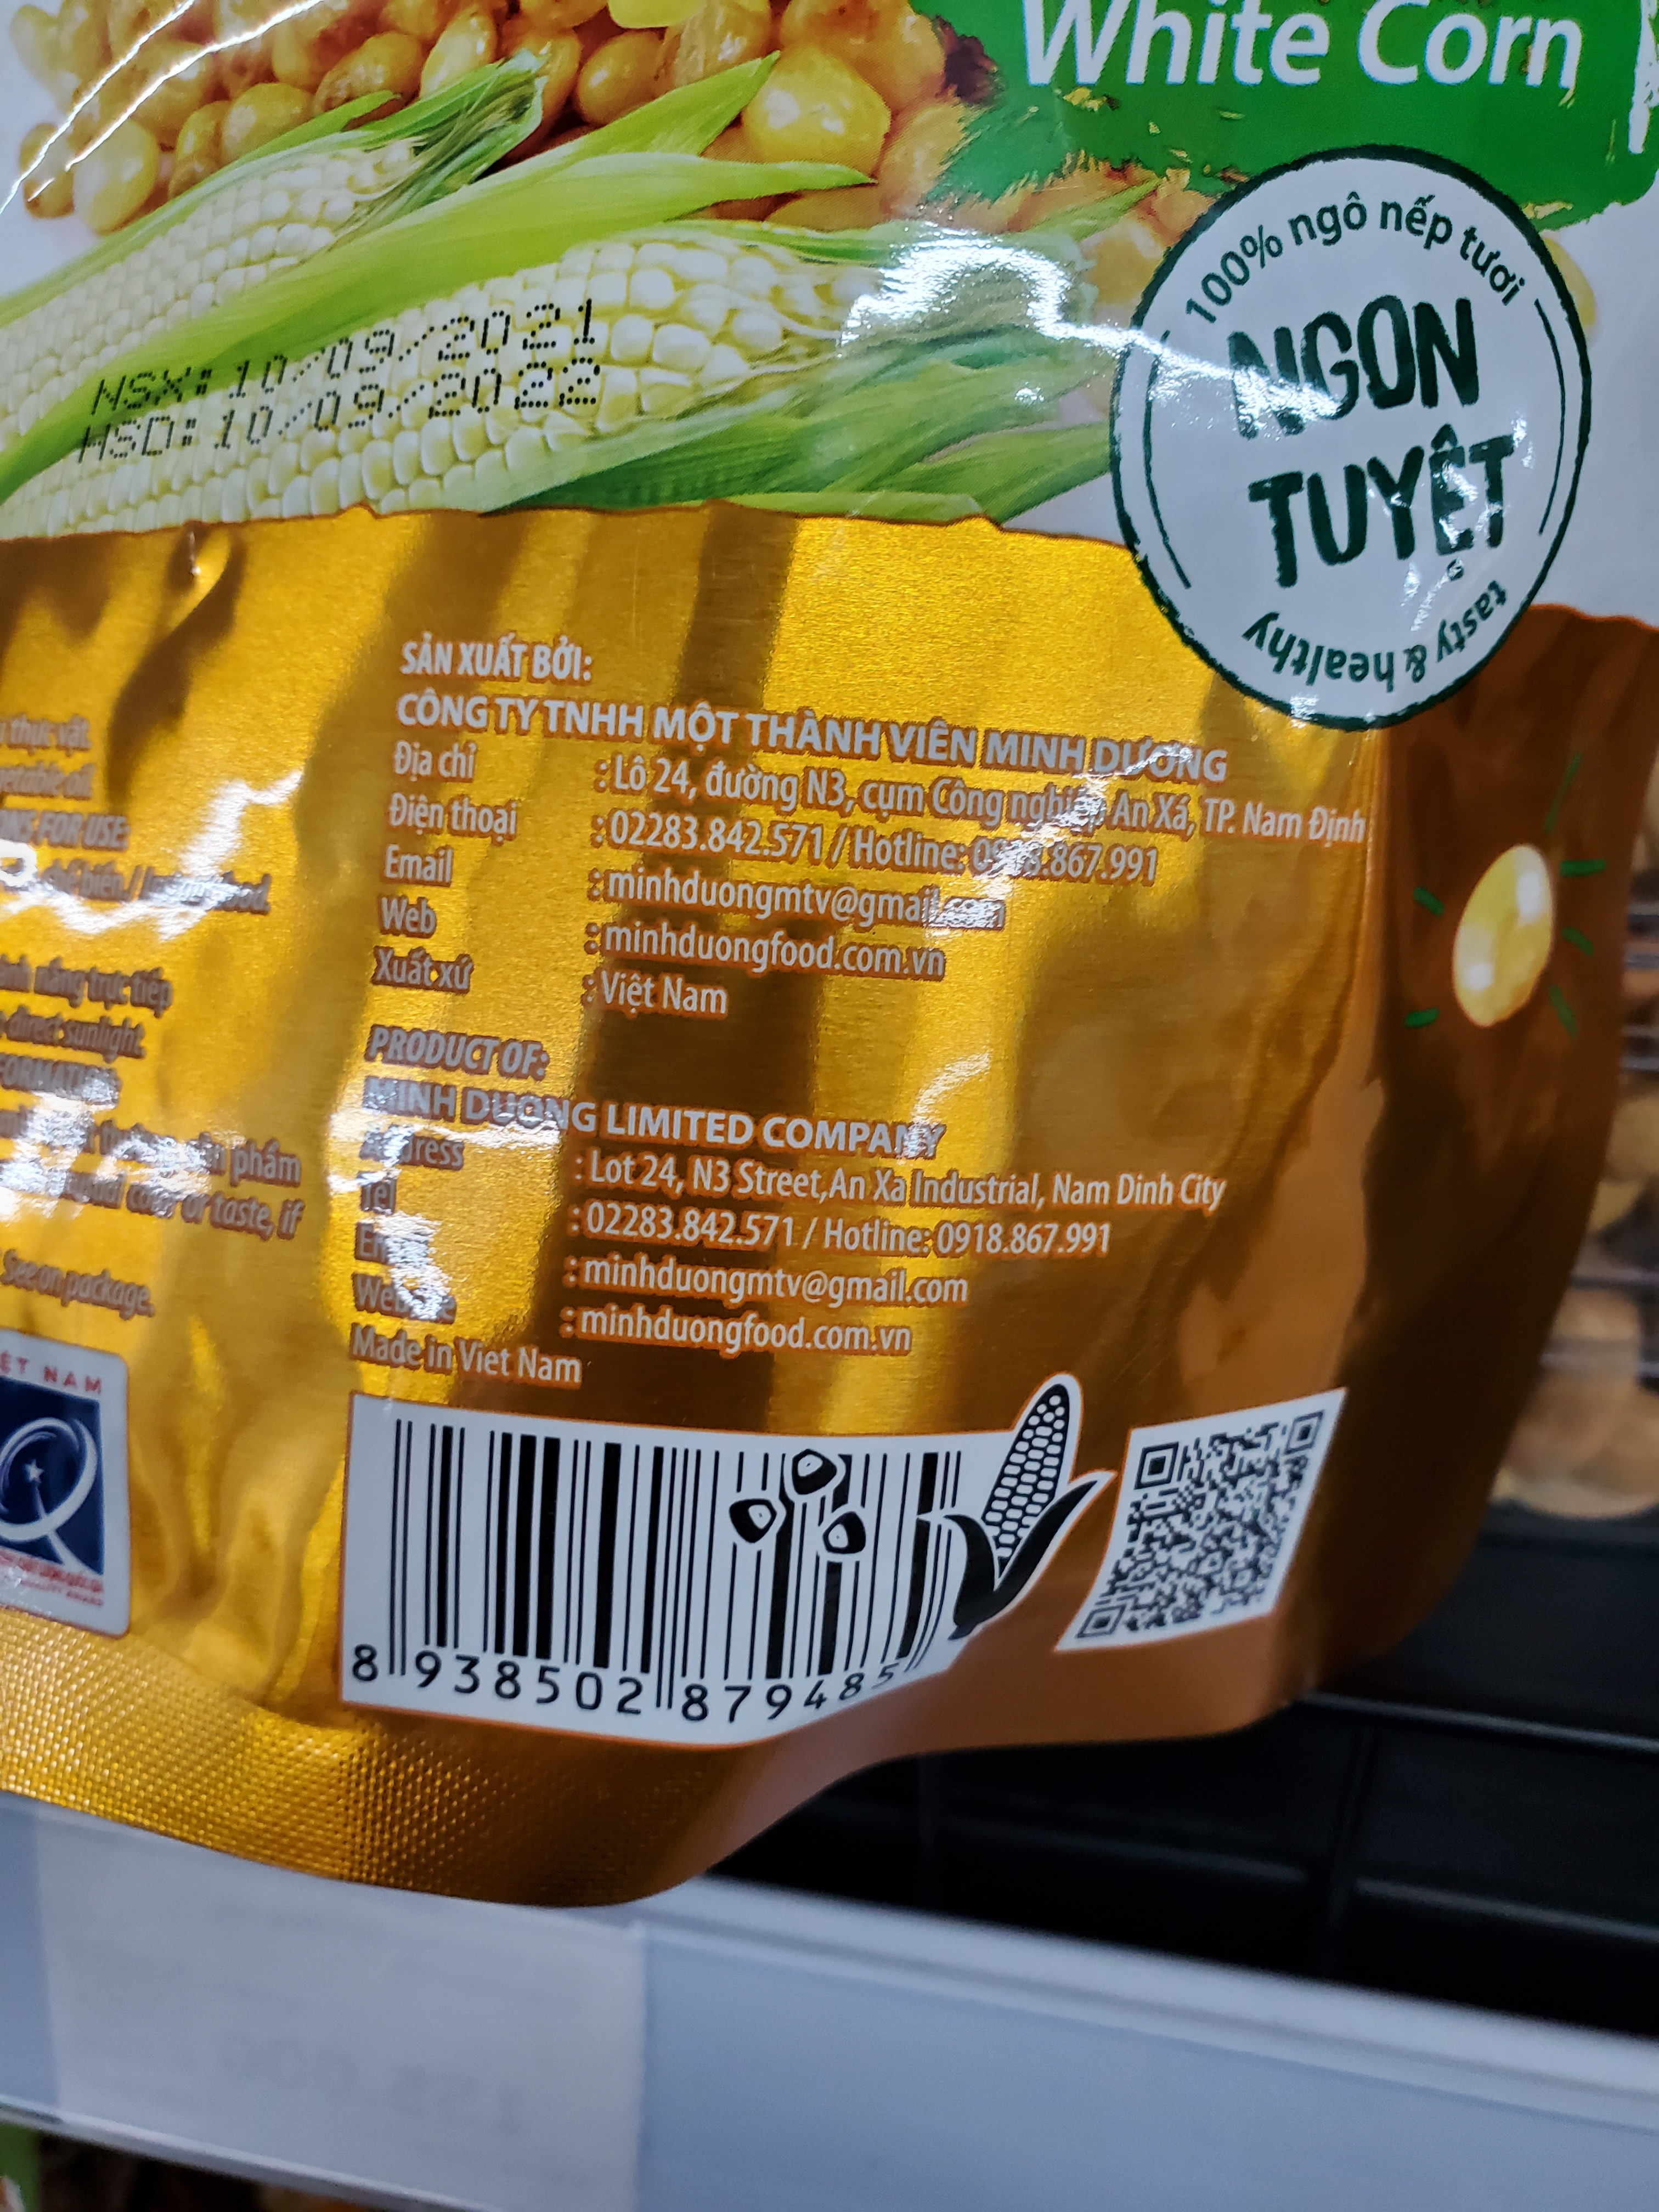barcode: (343, 1386, 997, 1745)
qr code: (1068, 1414, 1342, 1658)
